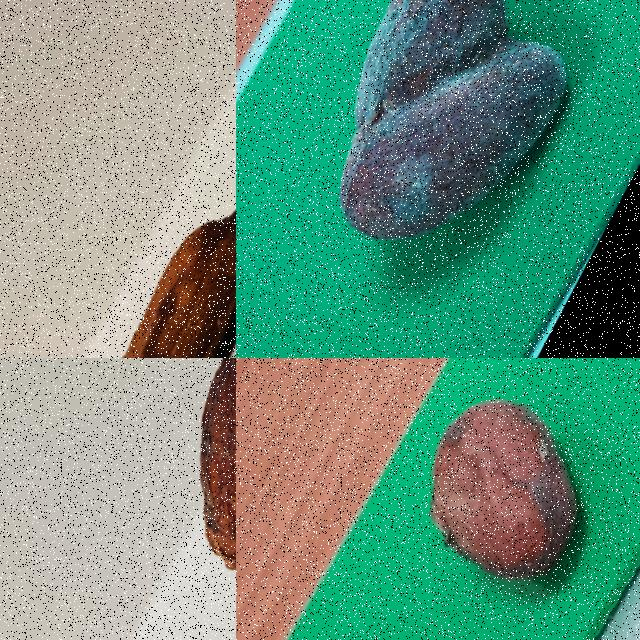Agglomerated_cocoabeans: (236, 0, 639, 357)
Fine_cocoabeans: (320, 358, 639, 639), (0, 123, 235, 357), (104, 358, 235, 639)
